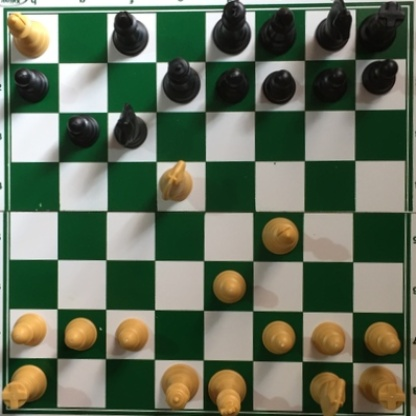black-bishop: (256, 2, 299, 55), (111, 11, 152, 57)
black-king: (210, 1, 251, 55)
black-knight: (315, 1, 354, 53), (111, 102, 147, 150)
black-pawn: (361, 56, 399, 96), (311, 66, 349, 104), (12, 66, 50, 104), (259, 69, 298, 106), (213, 68, 248, 107), (63, 114, 100, 149)
black-queen: (160, 56, 201, 105)
black-rook: (356, 1, 404, 54)
white-bishop: (6, 9, 51, 59), (259, 214, 301, 256)
white-king: (203, 366, 246, 416)
white-knight: (309, 369, 346, 416), (157, 159, 193, 205)
white-pawn: (260, 319, 298, 358), (361, 320, 401, 357), (211, 269, 248, 307), (310, 320, 347, 357), (112, 316, 150, 352), (11, 312, 47, 349), (62, 315, 98, 351)
white-queen: (157, 360, 200, 412)
white-rook: (1, 361, 49, 411), (355, 364, 404, 410)
